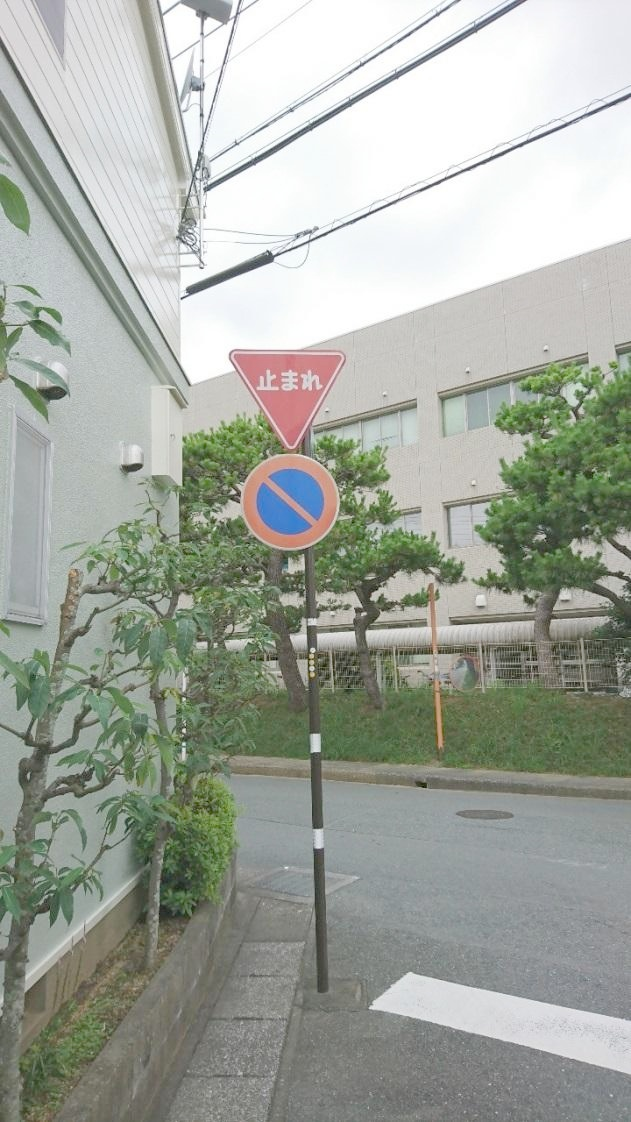Prohibition_sign: (222, 447, 367, 587)
Regulatory_sign_triangle: (225, 345, 353, 452)
